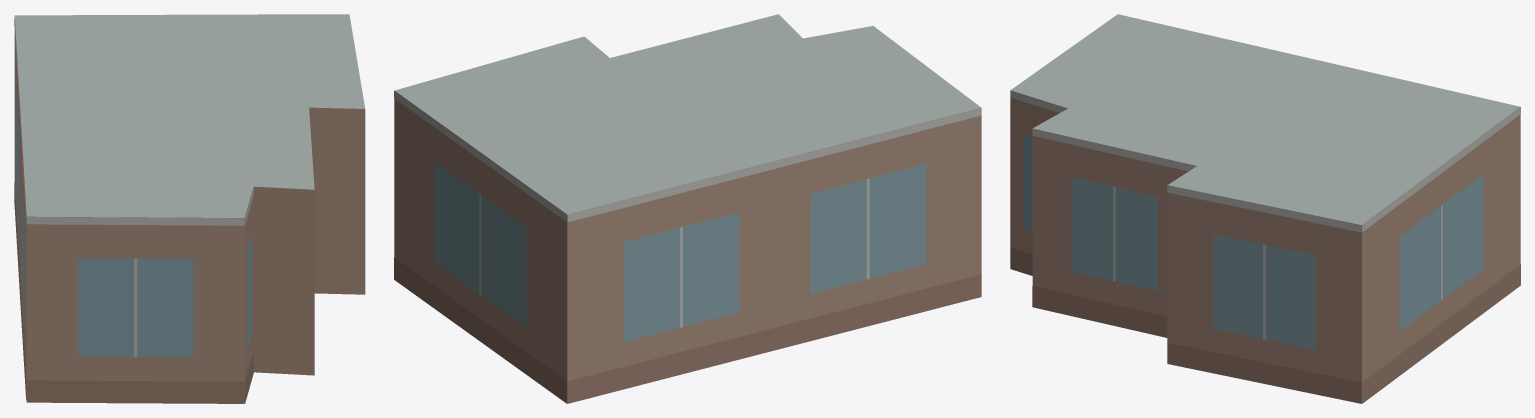
File: survey-upis-32828579.glb
3 renders of one model, left to right at view 1: azimuth 30°, elevation 25°; view 2: azimuth 150°, elevation 25°; view 3: azimuth 270°, elevation 25°, orthographic. The views are drawn at different scales.
Parts seen in each view (by area): view 1: survey-upis-32828579.tmp; view 2: survey-upis-32828579.tmp; view 3: survey-upis-32828579.tmp.
Part boxes in pixels (bbox=[...]): survey-upis-32828579.tmp: bbox=[14, 14, 365, 403]; survey-upis-32828579.tmp: bbox=[394, 14, 981, 403]; survey-upis-32828579.tmp: bbox=[1010, 14, 1520, 403].
Size of the model in its own units: 7.74 by 3.05 by 7.9.
